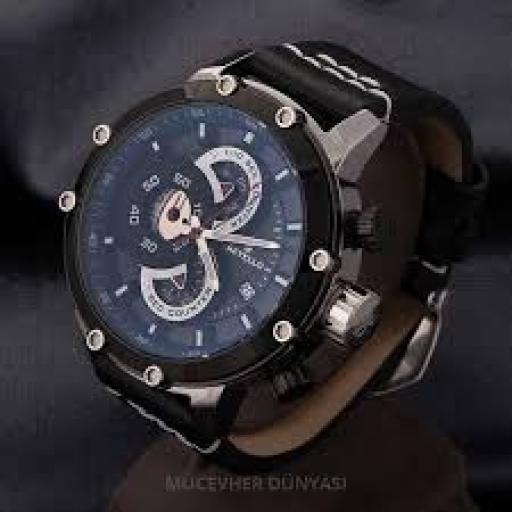KolSaati: (9, 8, 495, 498)
